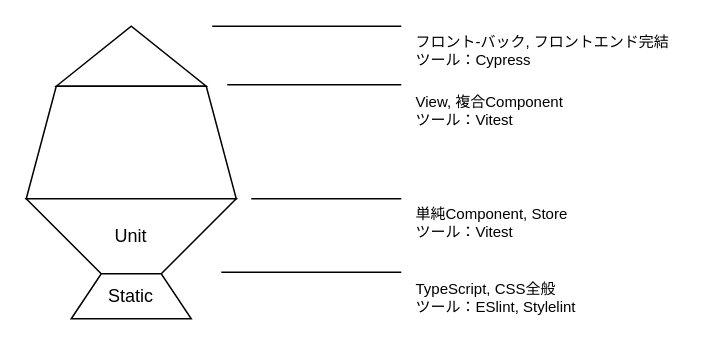
This 728x360 diagram has some shape labels left out. Each missing label, with the centre of its shape:
"E2E" goes at [130,55].
"Integrate" goes at [130,142].
